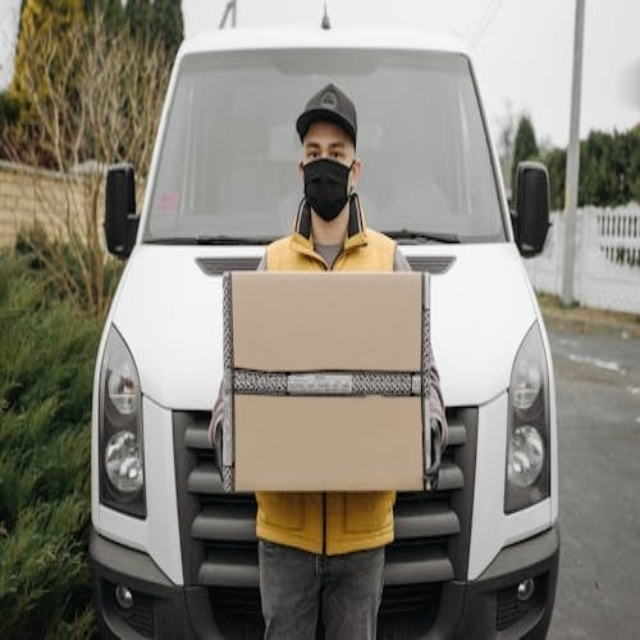Guantes: (415, 414, 451, 492)
Mascara: (302, 159, 354, 219)
Sin_gafas: (302, 132, 353, 159)
